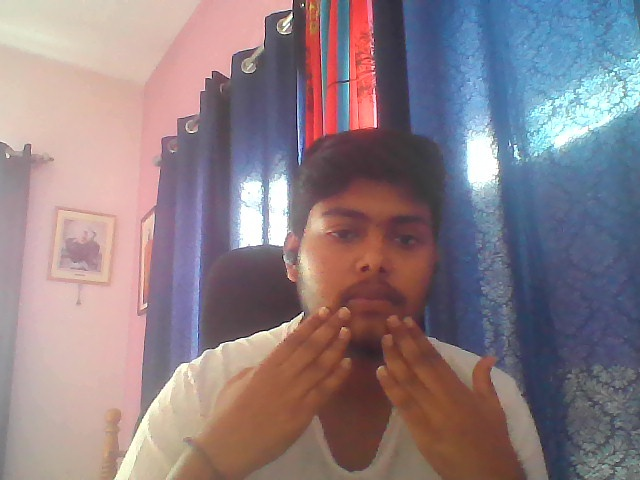Thank You: (200, 303, 532, 472)
